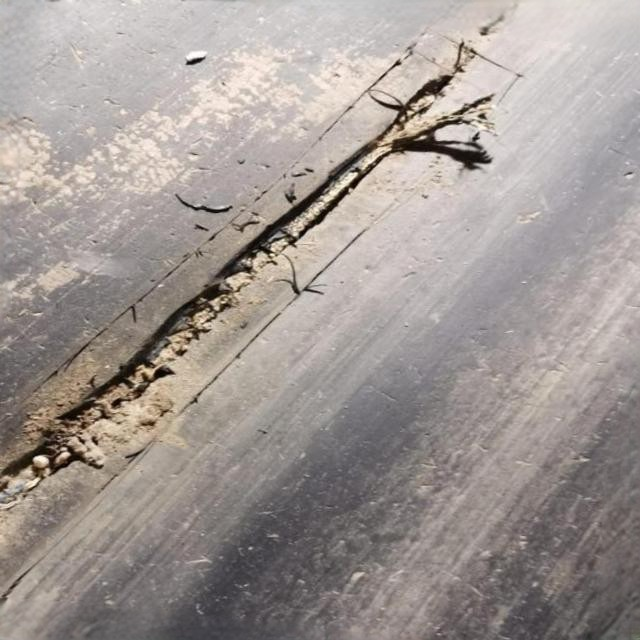Tear: (1, 19, 511, 612)
